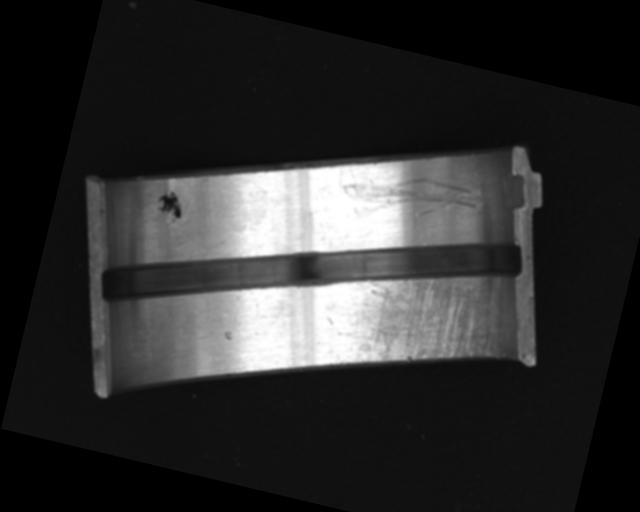blot: (152, 187, 186, 225)
bruise: (222, 328, 235, 342)
gap: (91, 152, 528, 394)
nick: (336, 156, 484, 240)
scratch: (328, 242, 517, 401)
